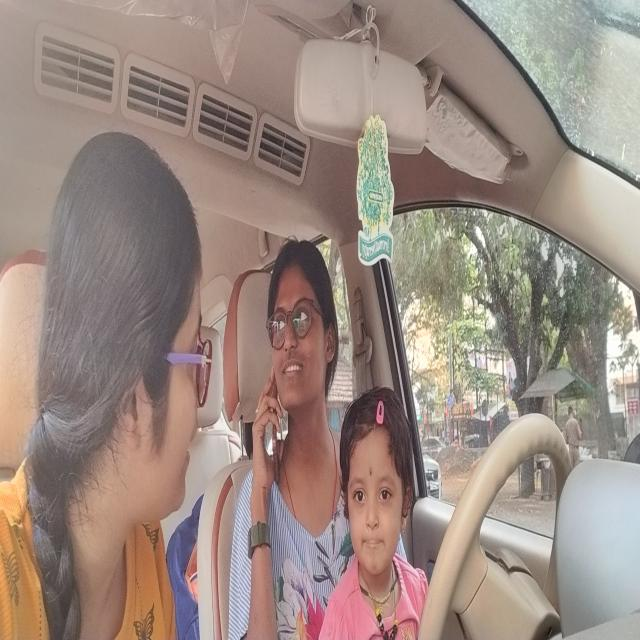child: (340, 387, 416, 577)
mobile: (266, 356, 284, 484)
person: (46, 121, 216, 537), (261, 238, 340, 434)
